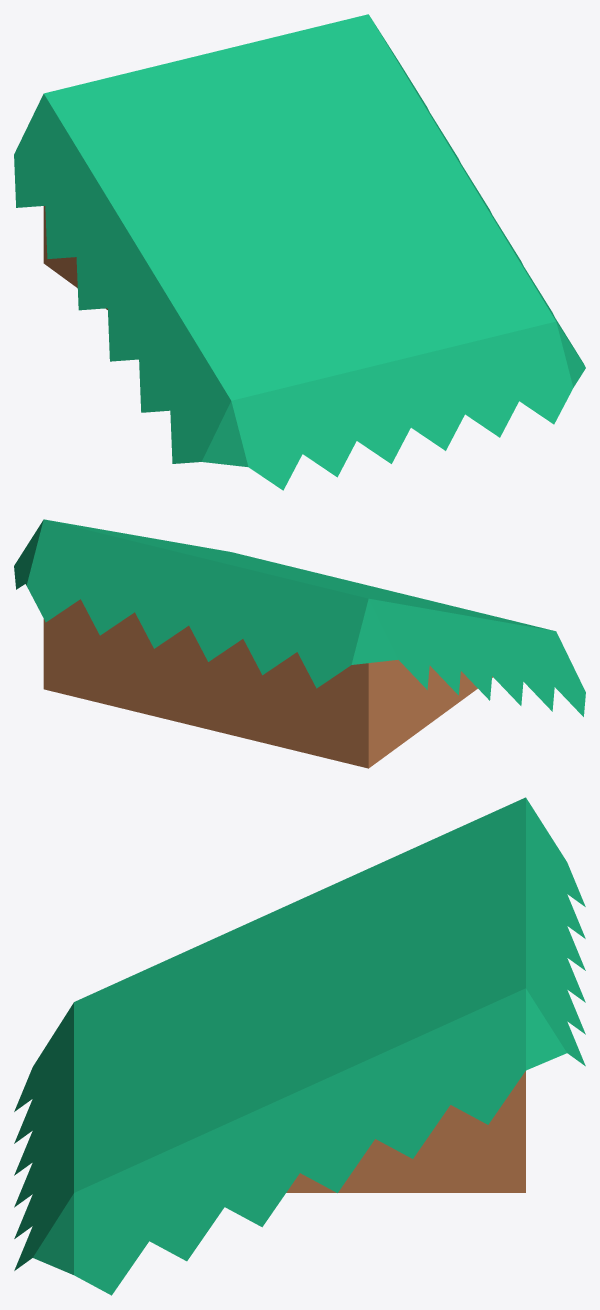
Rendered from blockSlopeHalf.fbx.
The picture shows the model from 3 angles, top to bottom: view 1: azimuth 30°, elevation 25°; view 2: azimuth 150°, elevation 25°; view 3: azimuth 270°, elevation 25°; orthographic projection. The views are drawn at different scales.
Visible parts, largest first — view 1: blockSlopeHalf; view 2: blockSlopeHalf; view 3: blockSlopeHalf.
Boxes of the visible parts, left/top/right/bottom form: blockSlopeHalf: left=14, top=14, right=585, bottom=490; blockSlopeHalf: left=14, top=519, right=585, bottom=768; blockSlopeHalf: left=14, top=797, right=585, bottom=1295.
Size of the model in its own units: 12.66 by 7.3 by 12.66.
